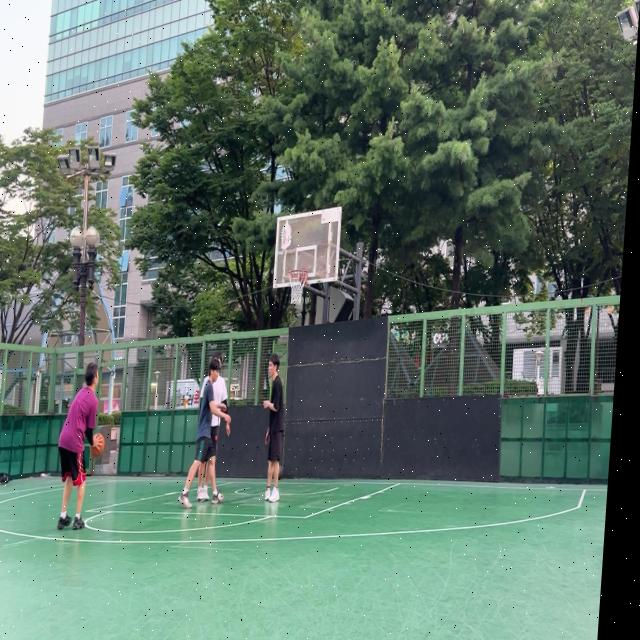basketball: (90, 432, 106, 457)
hoop: (285, 268, 309, 306)
